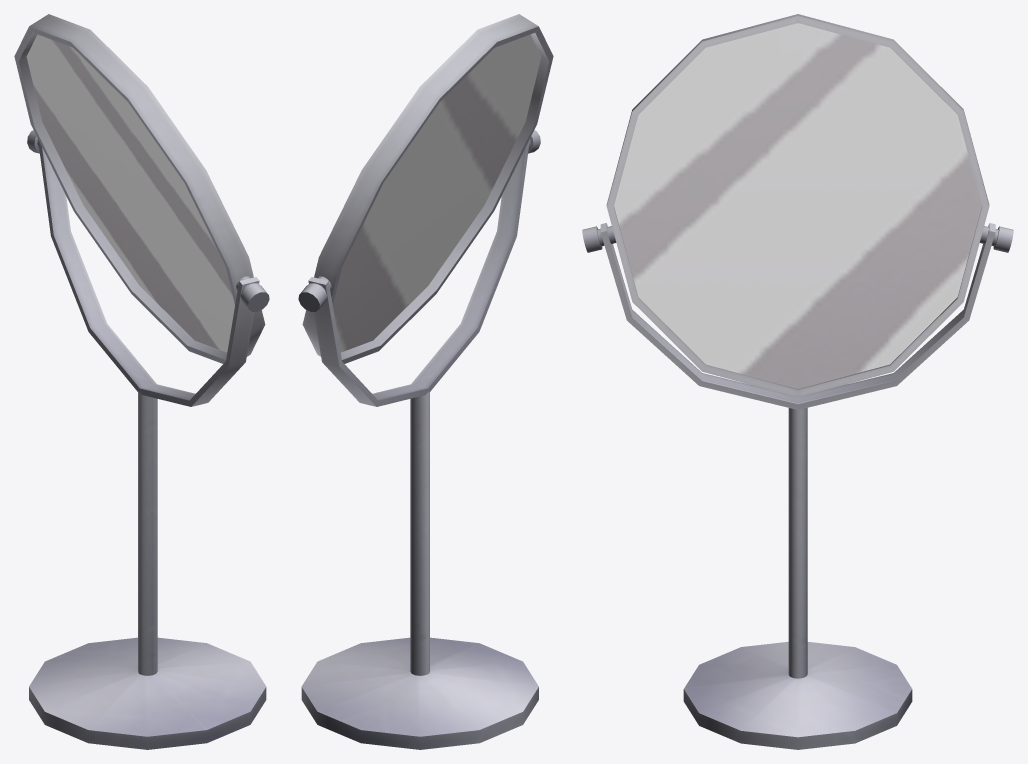
The model's file is ShaShouJia_01_jingzi_01.FBX.
The picture shows the model from 3 angles, left to right: view 1: azimuth 30°, elevation 25°; view 2: azimuth 150°, elevation 25°; view 3: azimuth 270°, elevation 25°; orthographic projection. The views are drawn at different scales.
Parts seen in each view (by area): view 1: ShaShouJia_01_jingzi_01; view 2: ShaShouJia_01_jingzi_01; view 3: ShaShouJia_01_jingzi_01.
Boxes of the visible parts, x1=… form: ShaShouJia_01_jingzi_01: x1=14, y1=14, x2=269, y2=749; ShaShouJia_01_jingzi_01: x1=298, y1=14, x2=553, y2=749; ShaShouJia_01_jingzi_01: x1=582, y1=14, x2=1013, y2=749.
Size of the model in its own units: 68.02 by 216 by 128.
